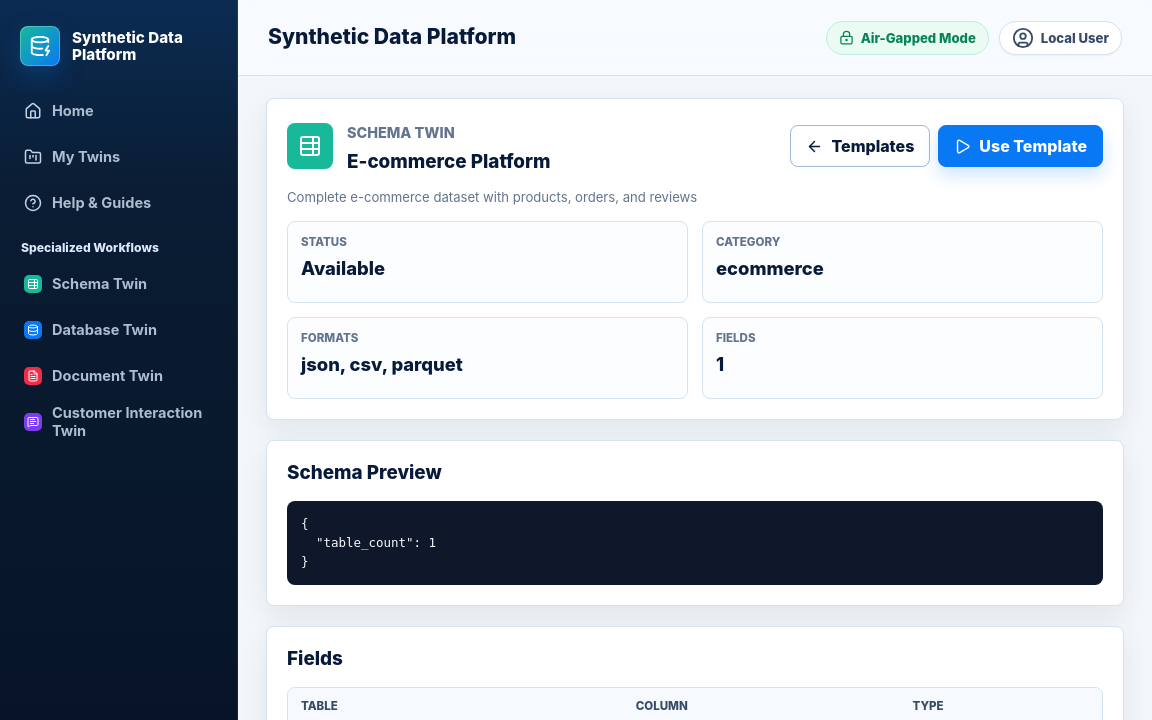
Synthetic Data Twin routed app › renders template detail and starts template-backed schema flow
Expected: the heading "E-commerce Platform" is shown, [347,150,550,174]
Click the button "Use Template". click: (1021, 146)
box: [938,125,1103,167]
(page scrolled)
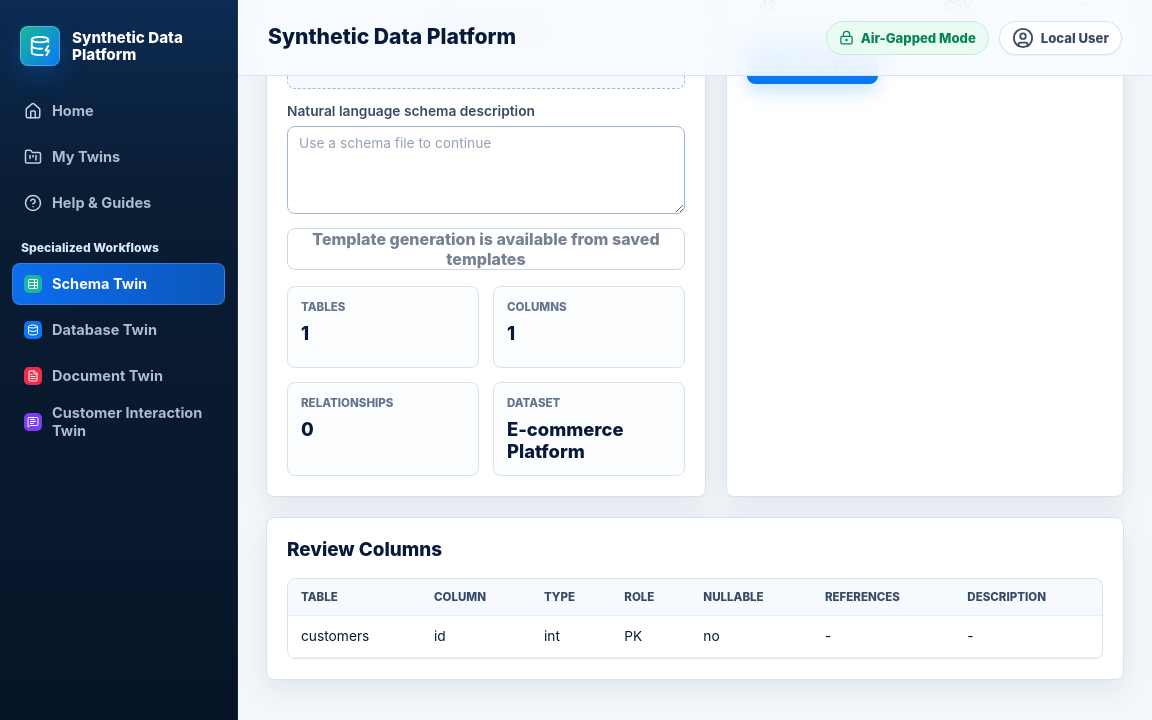
Now the text "E-commerce Platform" is shown, box [507,418,624,462]
